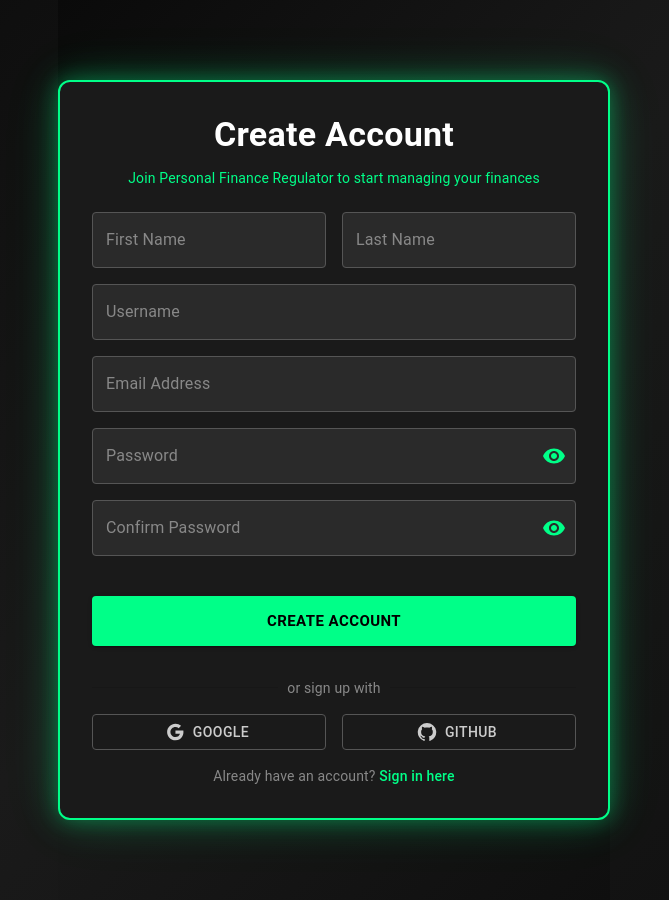
Test case: Authentication Flow › Sign Up Functionality › should validate required fields
Click the button "Create Account": (334, 621) [92,596,576,646]
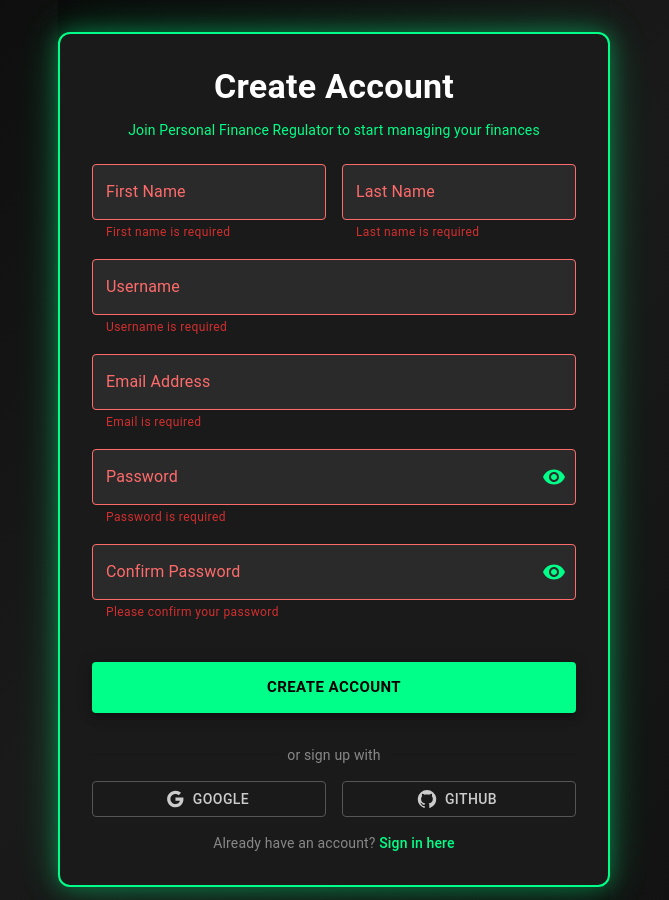
Check: the text "First name is required" is shown, box [106,225,230,239]
Check: the text "Last name is required" is shown, box [356,225,479,239]
Check: the text "Username is required" is shown, box [106,320,227,334]
